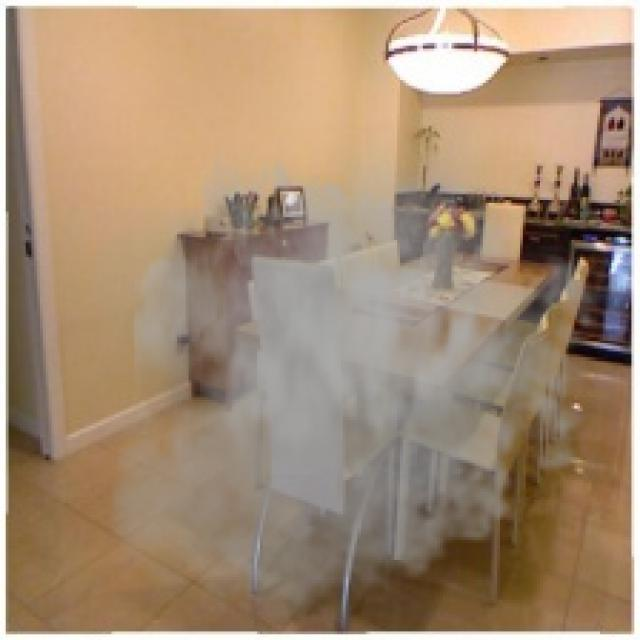smoke: (97, 117, 614, 637)
